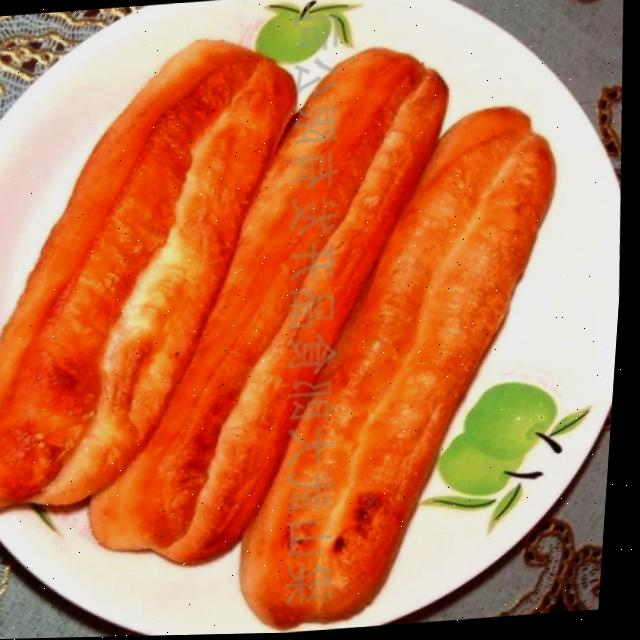炸货点心: (0, 11, 601, 635)
